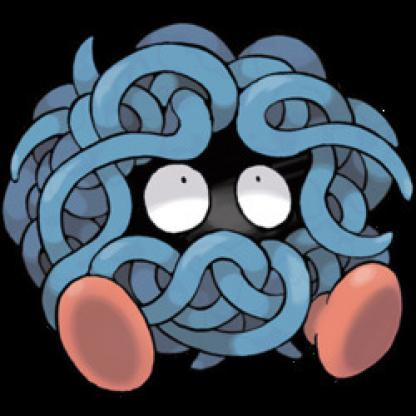Tangela: (10, 23, 416, 377)
